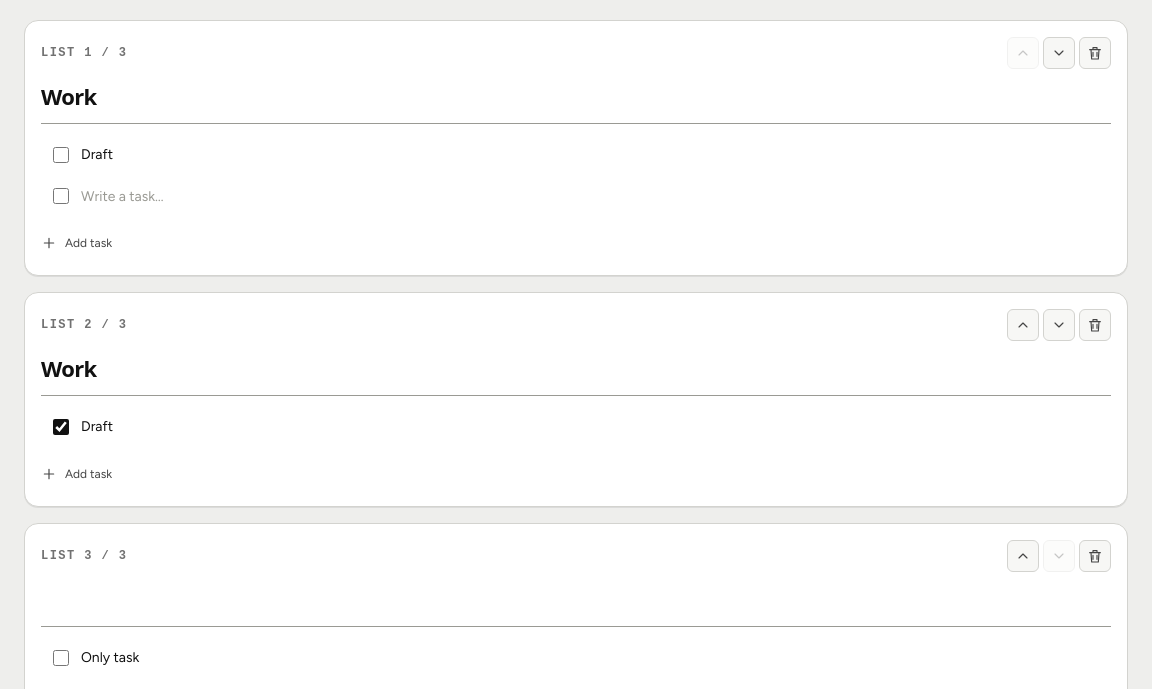
Test: VisualEditor destructive confirmation › keeps the list and returns focus to its remove control when declined
Click the button named "Remove List 1: Work": click(1095, 53) [1079, 37, 1111, 69]
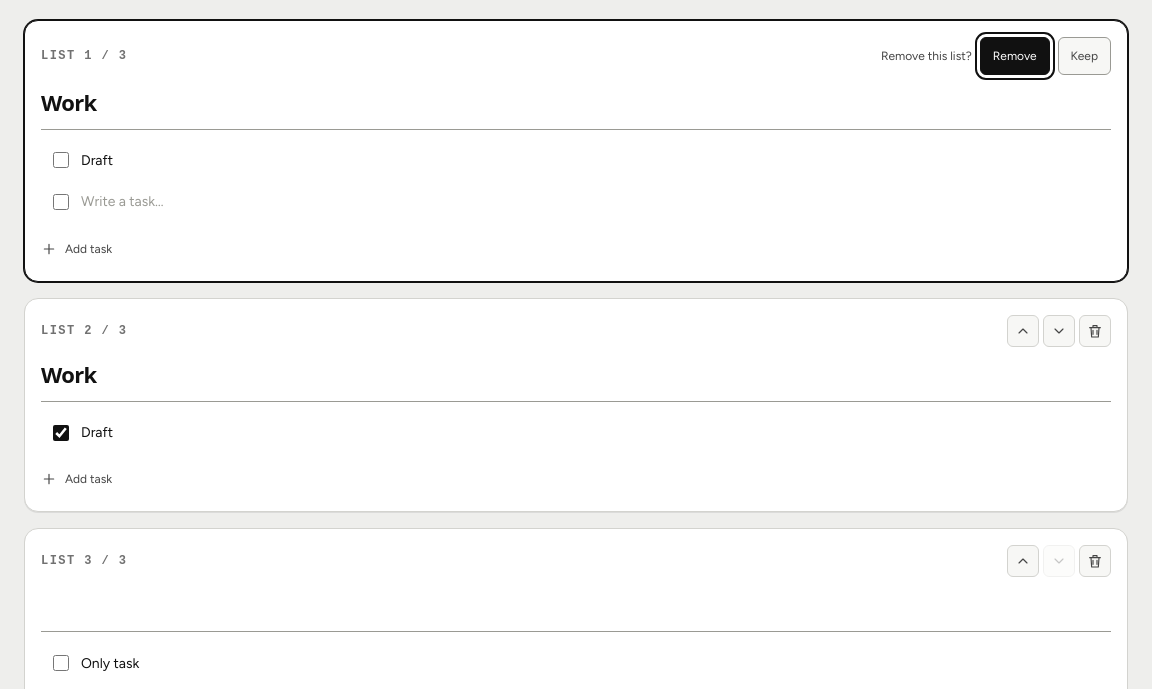
Click the button with aria-label "Keep List 1: Work": click(1084, 56) [1058, 37, 1111, 75]
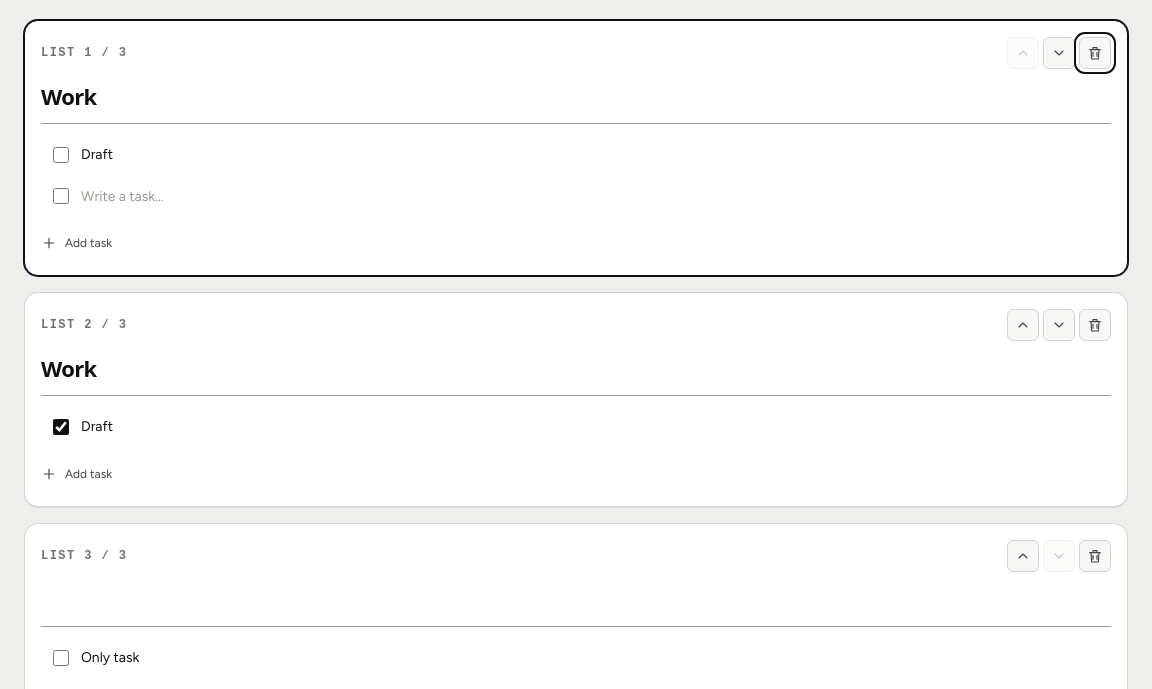
Expected: the element named "List 1: Work" is shown, [24, 20, 1128, 276]
Expected: the text "Remove this list?" is gone
